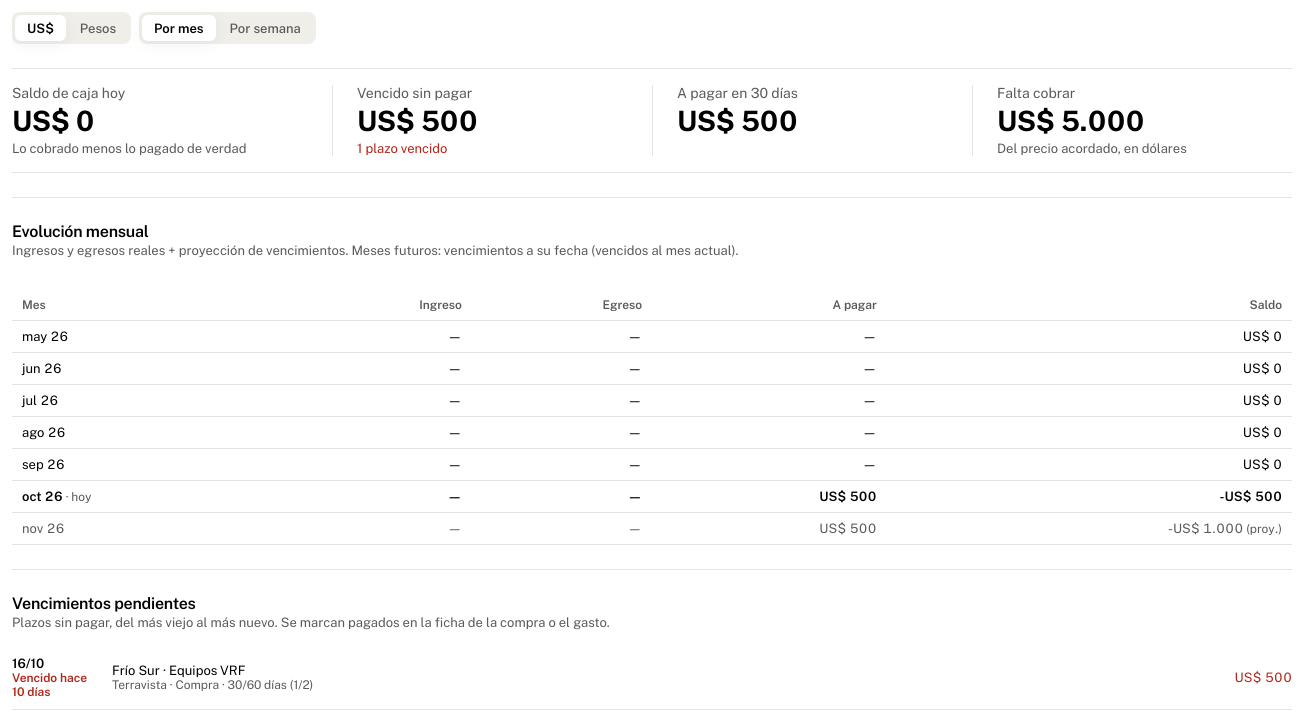
Scenario: CashFlow › cambia entre la vista por mes y por semana
Check: the heading "Evolución mensual" is shown, box [12,222,148,241]
Click the button "Por semana" at (265, 28), box [218,15,313,41]
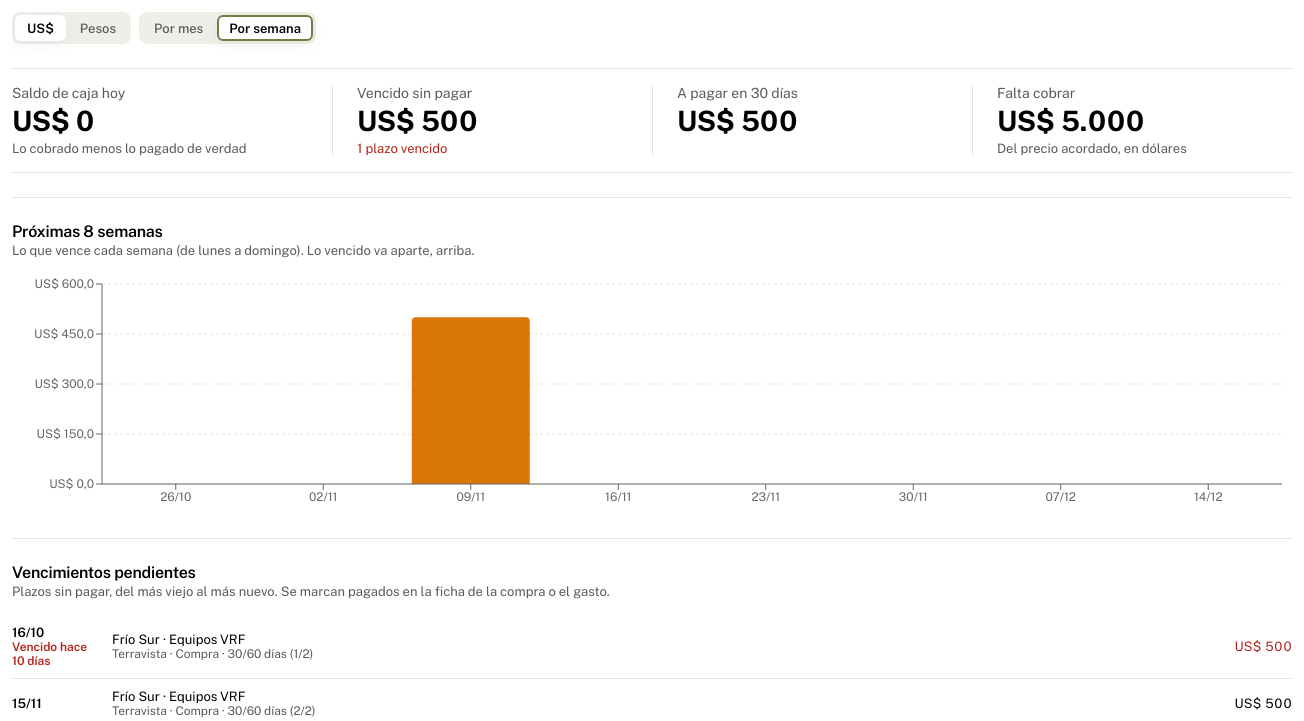
Check: the heading "Próximas 8 semanas" is shown, box [12,222,162,241]
Check: the heading "Evolución mensual" is gone
